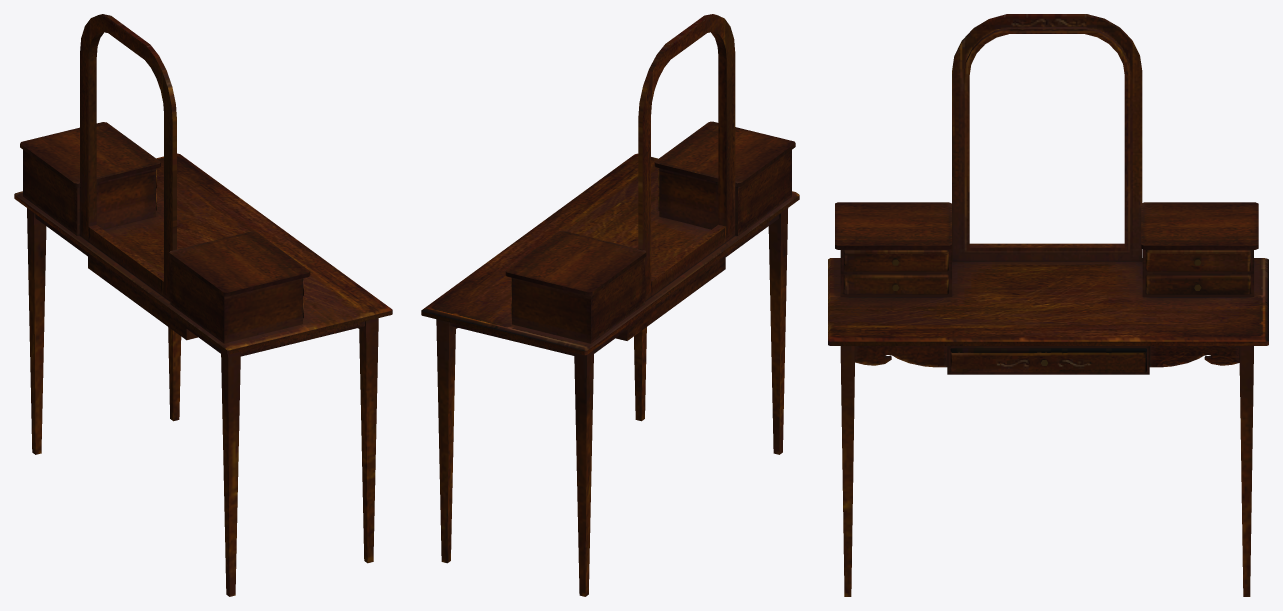
File: furniture_vanity01a.glb
3 renders of one model, left to right at view 1: azimuth 30°, elevation 25°; view 2: azimuth 150°, elevation 25°; view 3: azimuth 270°, elevation 25°, orthographic. The views are drawn at different scales.
Parts seen in each view (by area): view 1: furniture_vanity01a; view 2: furniture_vanity01a; view 3: furniture_vanity01a.
Part boxes in pixels (x1,y1,x2,y2): furniture_vanity01a: (14, 14, 392, 596); furniture_vanity01a: (421, 14, 799, 596); furniture_vanity01a: (828, 14, 1268, 596).
Bounding box in the file's own units: 0.4696 × 1.34 × 1.05.
1 material, 1 textured.
